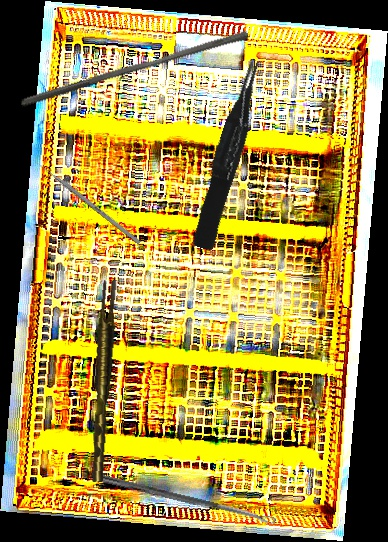Pusher: (19, 21, 250, 117), (32, 158, 142, 245)
Surgical Spoon: (89, 472, 277, 526)
Tissue Forceps: (184, 58, 275, 252), (81, 278, 124, 483)
